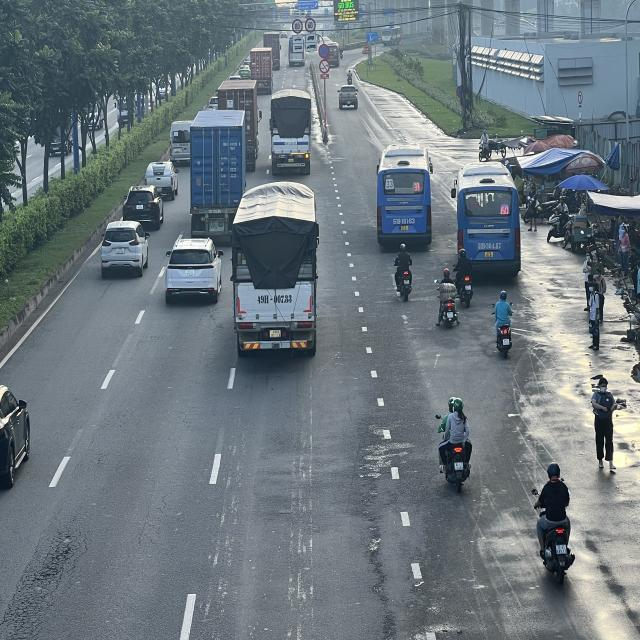car: (167, 239, 225, 305), (102, 218, 152, 274), (122, 186, 166, 228), (143, 160, 179, 200), (338, 86, 360, 112)
coach: (455, 165, 521, 281), (373, 145, 430, 250), (382, 25, 404, 44)
container: (189, 111, 245, 244), (216, 79, 258, 171), (250, 46, 273, 90), (263, 33, 281, 67)
truck: (232, 183, 321, 358), (270, 89, 312, 175)
van: (169, 120, 192, 166)
